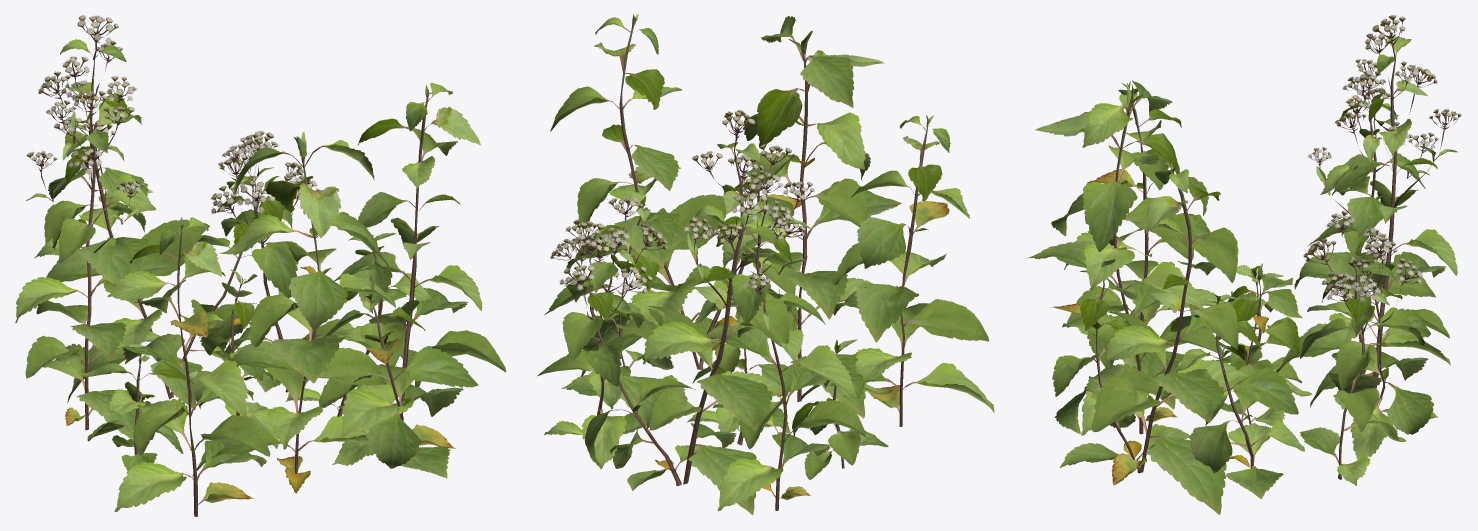
File: coherentShrub.glb
The picture shows the model from 3 angles, left to right: view 1: azimuth 30°, elevation 25°; view 2: azimuth 150°, elevation 25°; view 3: azimuth 270°, elevation 25°; orthographic projection. The views are drawn at different scales.
Parts seen in each view (by area): view 1: shrub_01_compact_1; view 2: shrub_01_compact_1; view 3: shrub_01_compact_1.
Part boxes in pixels (x1,y1,x2,y2): shrub_01_compact_1: [15, 15, 506, 516]; shrub_01_compact_1: [537, 14, 994, 515]; shrub_01_compact_1: [1026, 15, 1461, 514].
Bounding box in the file's own units: 0.3871 × 0.3793 × 0.3947.
Materials: 1 (1 with a texture image).
